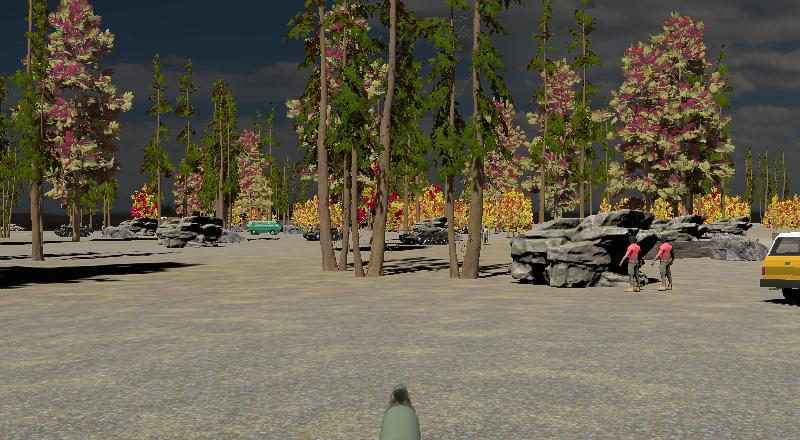Human: (620, 233, 645, 293), (652, 233, 675, 292)
Tank: (398, 218, 464, 247), (398, 221, 462, 247), (300, 221, 349, 243), (52, 220, 89, 239)
car: (760, 230, 800, 307), (247, 219, 283, 237)
